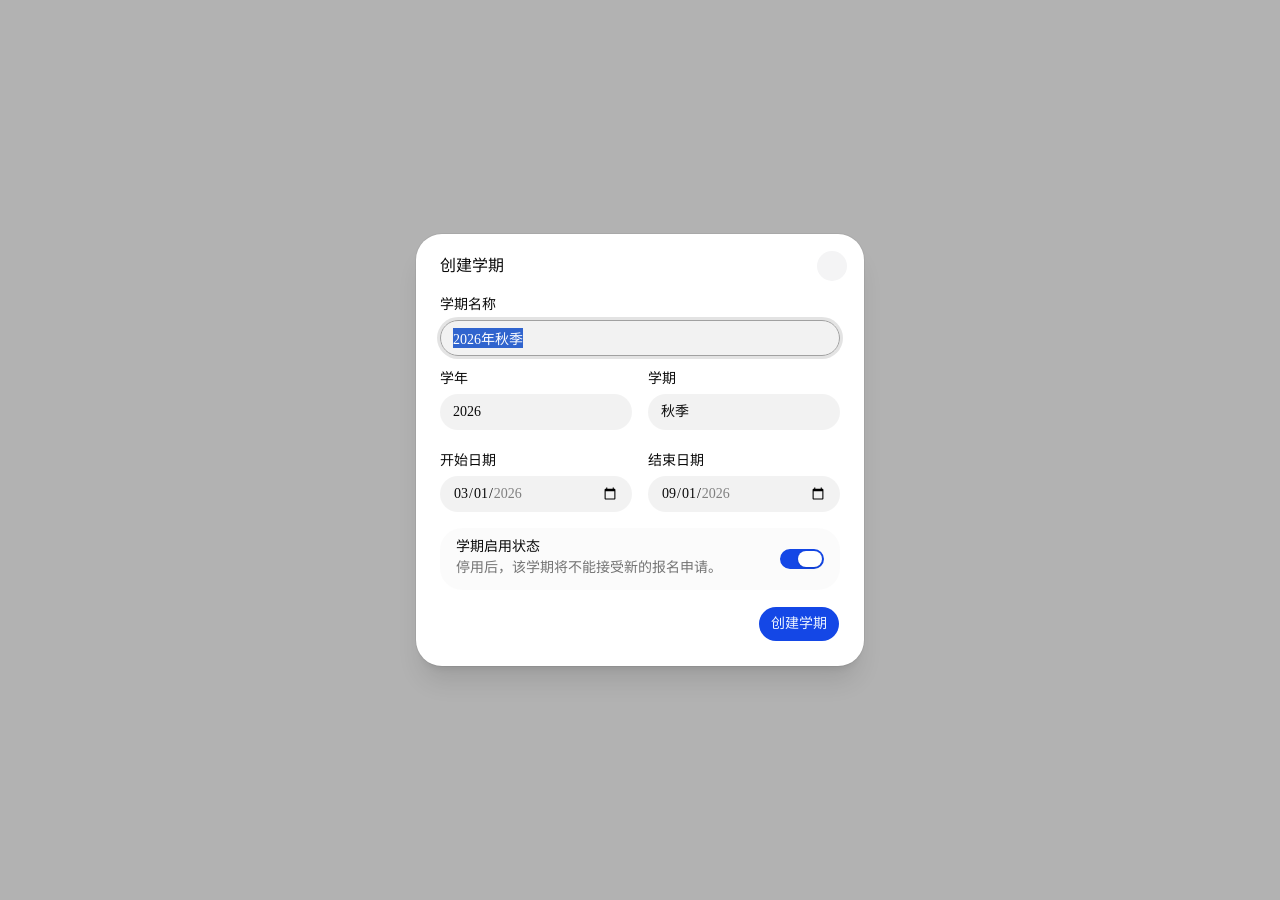
Test: SemesterFormDialog › keeps cleared native date inputs empty and exposes validation state accessibly
This screenshot has width=1280, height=900.
Clear the date field labelled "开始日期" at {"x": 536, "y": 494}, box [440, 476, 632, 512]
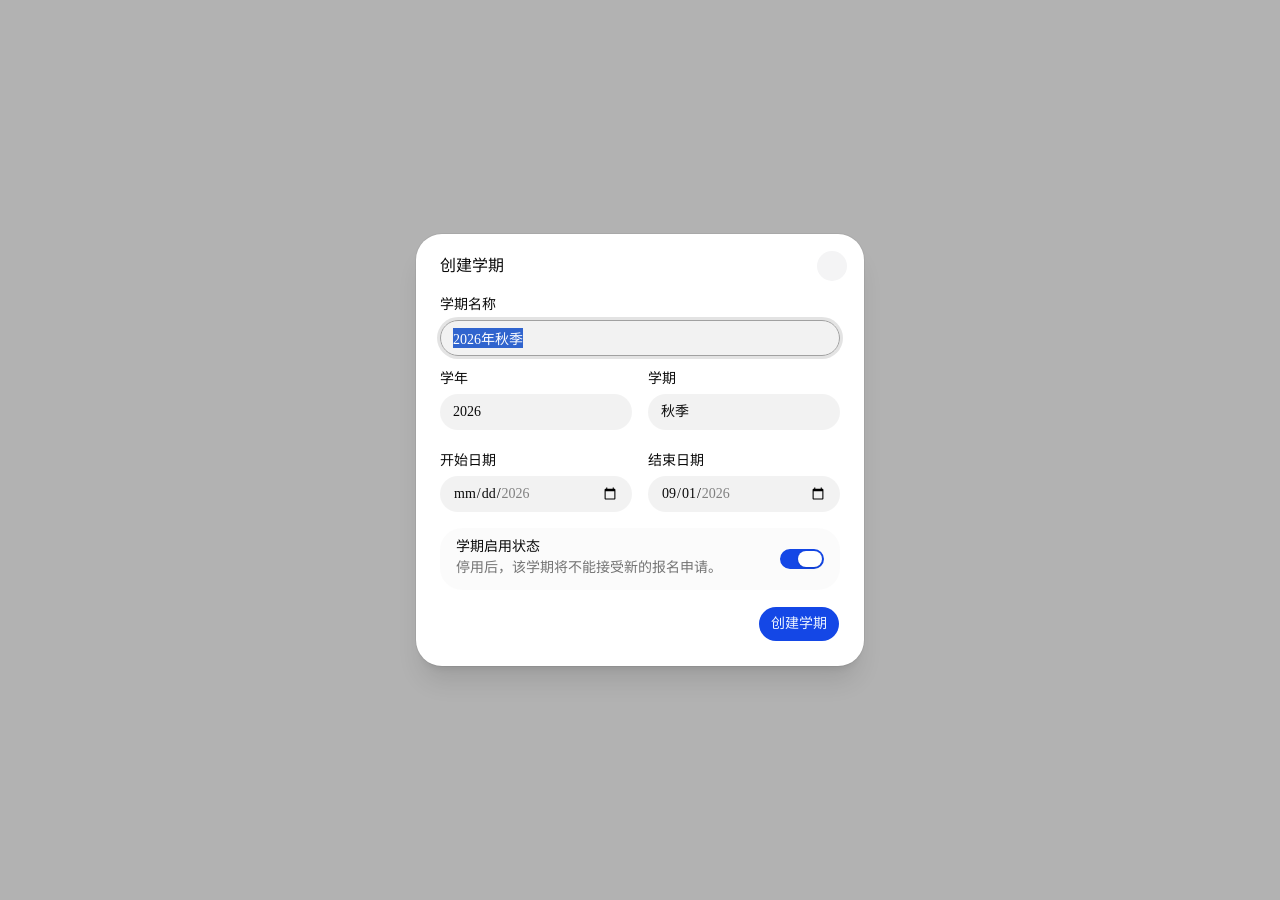
Click the button "创建学期" at {"x": 799, "y": 624}, box [758, 606, 840, 642]
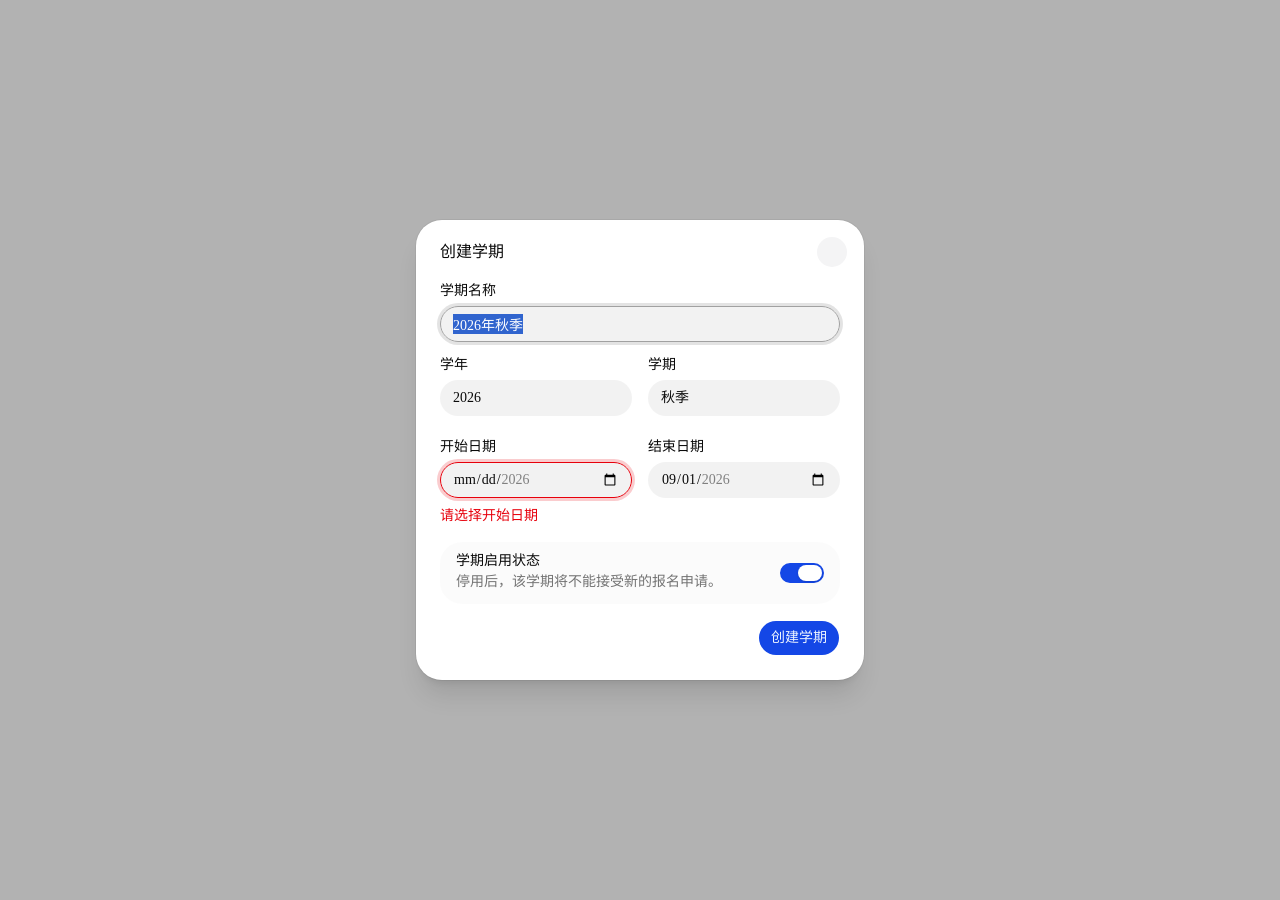
Expected: the element with id "semester-start-date-error" does not show ""
Expected: the text "请选择开始日期" is shown, [440, 508, 538, 523]
